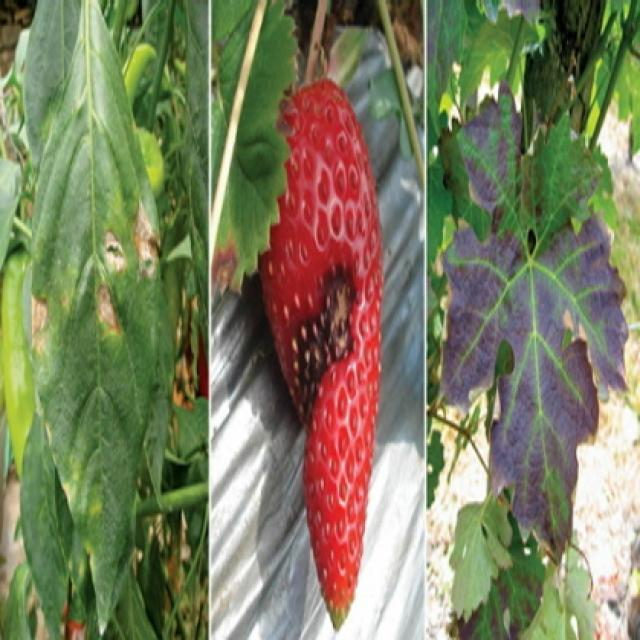Anthracnose Fruit Rot: (281, 254, 364, 429)
